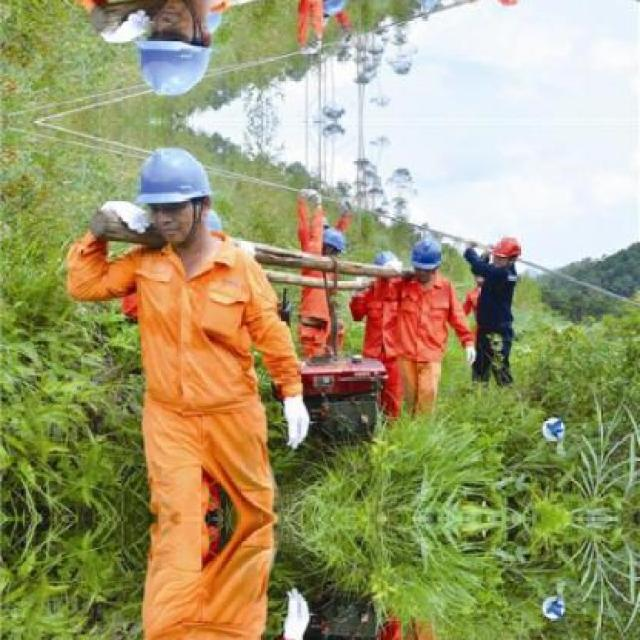helmet: (131, 142, 217, 249), (131, 0, 218, 100), (406, 230, 443, 276), (490, 232, 522, 266), (316, 227, 349, 259), (316, 0, 350, 14), (406, 0, 444, 12), (489, 0, 523, 9)
